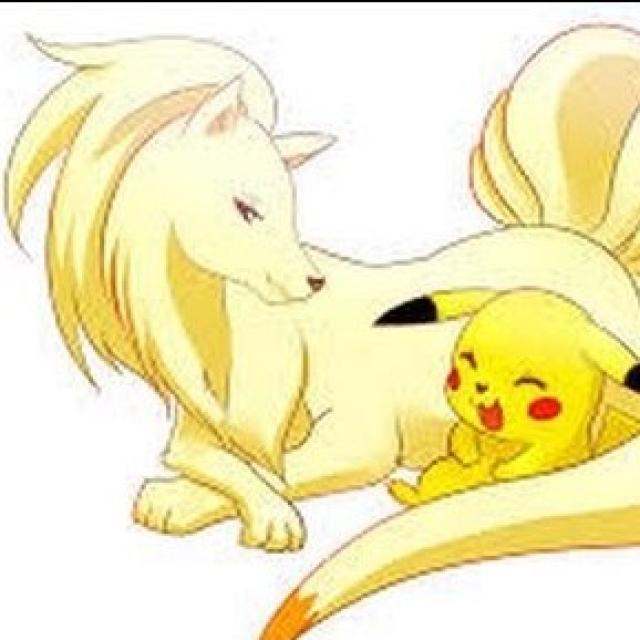Ninetales: (77, 32, 433, 523)
Pikachu: (417, 288, 601, 509)
